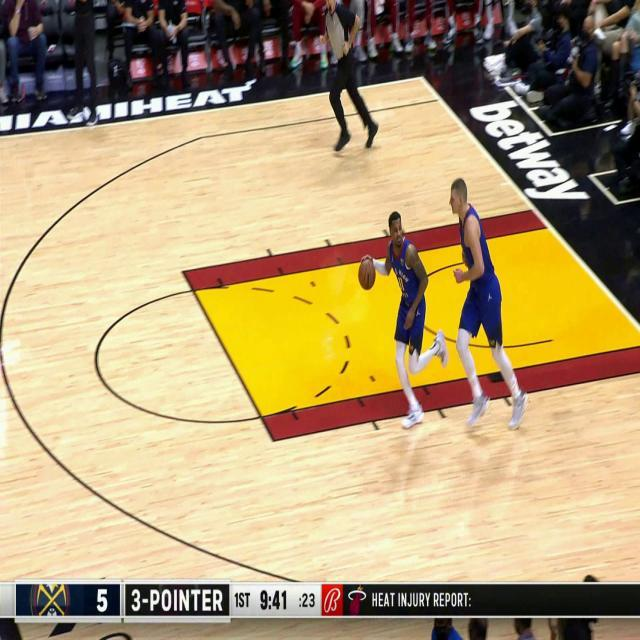rim: (358, 259, 377, 291)
